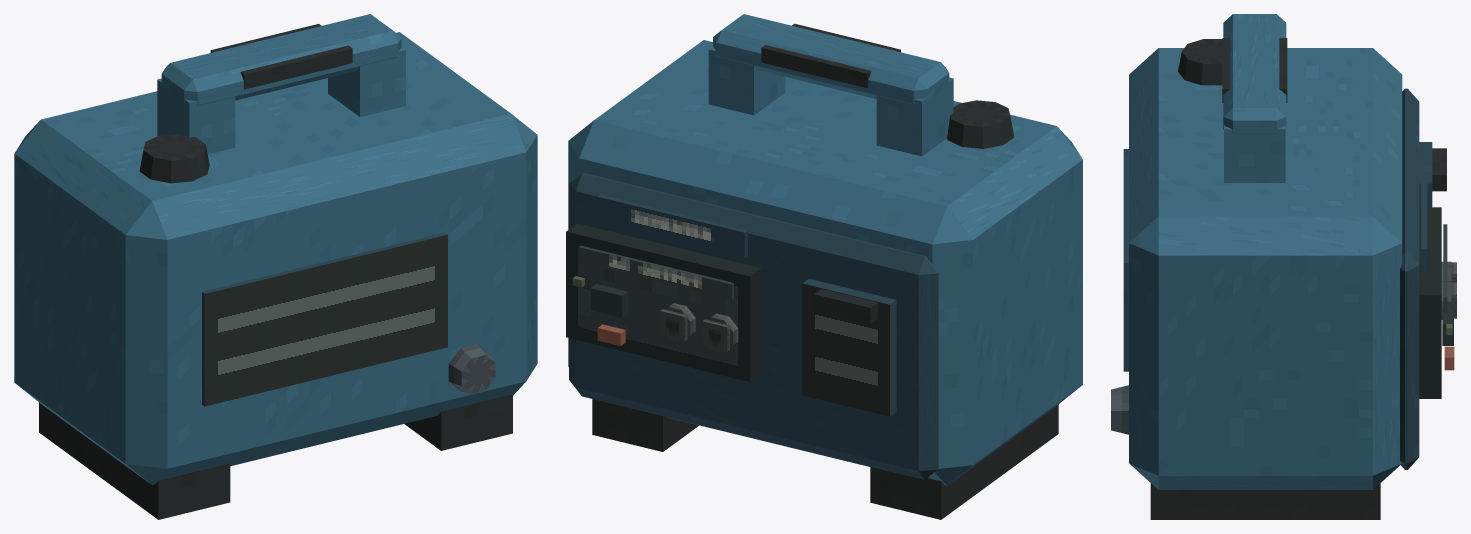
The model's file is f_portable_generator.glb.
The picture shows the model from 3 angles, left to right: view 1: azimuth 30°, elevation 25°; view 2: azimuth 150°, elevation 25°; view 3: azimuth 270°, elevation 25°; orthographic projection. The views are drawn at different scales.
Visible parts, largest first — view 1: block_molded-inverter-casing, block_rear-vent, block_anti-vibration-foot (×2), block_carry-handle, block_molded-handle-upright (×2), block_knurled-fuel-cap, block_rubber-handle-grip, block_rear-exhaust-outlet; view 2: block_molded-inverter-casing, block_contrasting-service-cover, block_recessed-output-panel, block_recoil-starter-grille, block_anti-vibration-foot (×2), block_carry-handle, block_molded-handle-upright (×2), block_inverter-label, block_output-panel-legend, block_knurled-fuel-cap, block_rubber-handle-grip, block_grounded-receptacle-face (×2) (+2 smaller); view 3: block_molded-inverter-casing, block_contrasting-service-cover, block_anti-vibration-foot, block_carry-handle, block_recessed-output-panel, block_molded-handle-upright, block_knurled-fuel-cap, block_rear-vent, block_rubber-handle-grip, block_rear-exhaust-outlet, block_recoil-starter-grille, block_inverter-label (+2 smaller).
Part boxes in pixels (left/top/right/bottom): block_molded-inverter-casing: left=14, top=32, right=537, bottom=485; block_rear-vent: left=202, top=232, right=447, bottom=406; block_anti-vibration-foot (×2): left=39, top=394, right=512, bottom=519; block_carry-handle: left=161, top=14, right=401, bottom=105; block_molded-handle-upright (×2): left=157, top=47, right=405, bottom=153; block_knurled-fuel-cap: left=139, top=134, right=209, bottom=183; block_rubber-handle-grip: left=210, top=24, right=352, bottom=89; block_rear-exhaust-outlet: left=448, top=344, right=495, bottom=393; block_molded-inverter-casing: left=568, top=40, right=1082, bottom=485; block_contrasting-service-cover: left=569, top=172, right=938, bottom=479; block_recessed-output-panel: left=566, top=223, right=761, bottom=382; block_recoil-starter-grille: left=802, top=278, right=896, bottom=416; block_anti-vibration-foot (×2): left=592, top=399, right=1058, bottom=519; block_carry-handle: left=713, top=14, right=949, bottom=104; block_molded-handle-upright (×2): left=708, top=46, right=953, bottom=156; block_inverter-label: left=597, top=194, right=747, bottom=257; block_output-panel-legend: left=578, top=245, right=733, bottom=300; block_knurled-fuel-cap: left=947, top=100, right=1013, bottom=148; block_rubber-handle-grip: left=761, top=23, right=900, bottom=88; block_grounded-receptacle-face (×2): left=660, top=309, right=729, bottom=351; block_molded-inverter-casing: left=1129, top=48, right=1402, bottom=489; block_contrasting-service-cover: left=1400, top=88, right=1419, bottom=469; block_anti-vibration-foot: left=1150, top=483, right=1380, bottom=519; block_carry-handle: left=1223, top=14, right=1286, bottom=133; block_recessed-output-panel: left=1419, top=207, right=1441, bottom=398; block_molded-handle-upright: left=1224, top=126, right=1285, bottom=182; block_knurled-fuel-cap: left=1178, top=39, right=1222, bottom=85; block_rear-vent: left=1123, top=149, right=1128, bottom=371; block_rubber-handle-grip: left=1222, top=38, right=1287, bottom=102; block_rear-exhaust-outlet: left=1111, top=385, right=1128, bottom=434; block_recoil-starter-grille: left=1419, top=142, right=1432, bottom=207; block_inverter-label: left=1421, top=179, right=1427, bottom=274.
Bounding box in the file's own units: 0.67 × 0.607 × 0.5065.
Materials: 1 (1 with a texture image).
